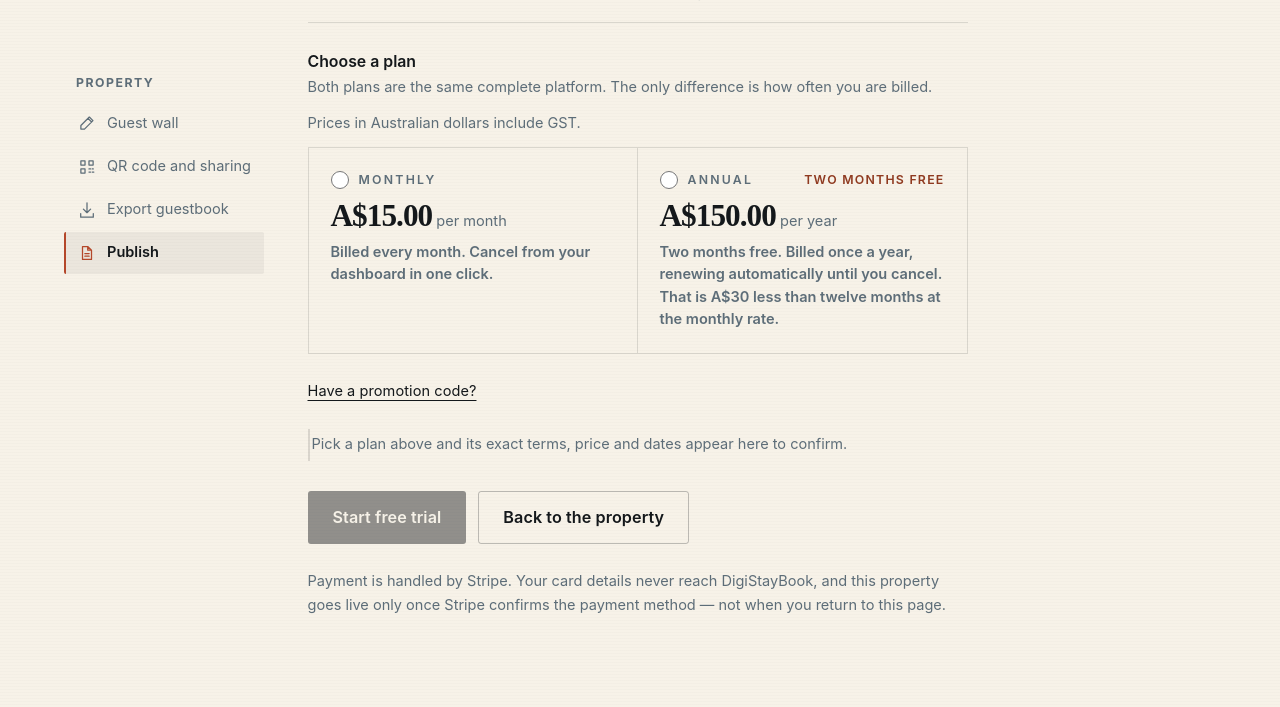
Test: applying a promotion code › keeps the field collapsed until a Host says they have one
(page scrolled)
Check: the radio button labelled "A$15.00 per month" is shown, box x1=330 y1=171 x2=348 y2=189
Click the button "Have a promotion code?".
click(392, 392)  # box x1=308 y1=380 x2=476 y2=403
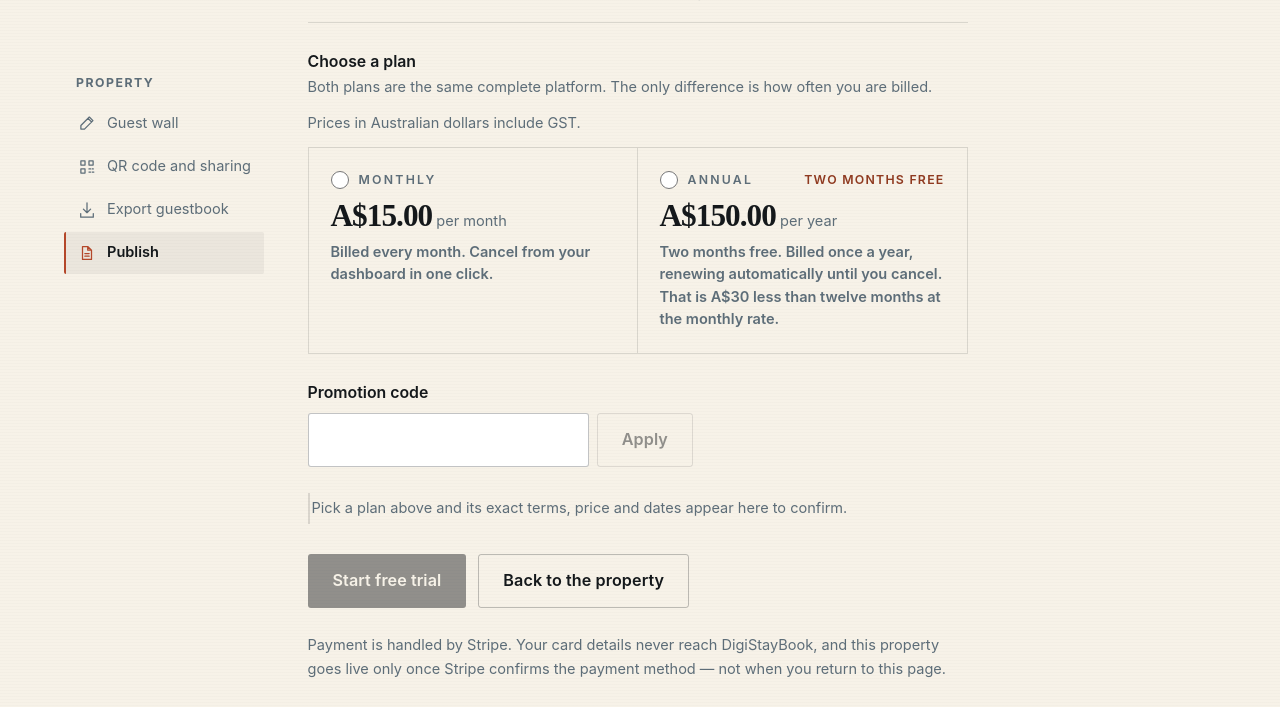
Check: the field labelled "Promotion code" is shown, box x1=308 y1=413 x2=589 y2=467
